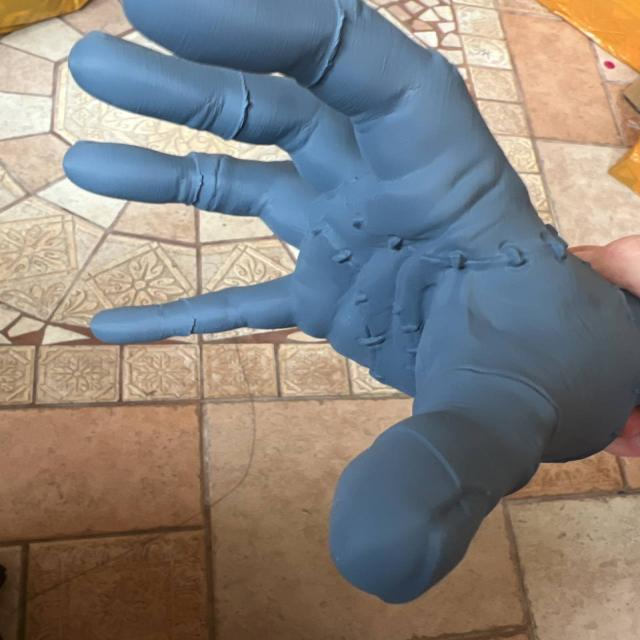Without deffect: (28, 2, 640, 612)
